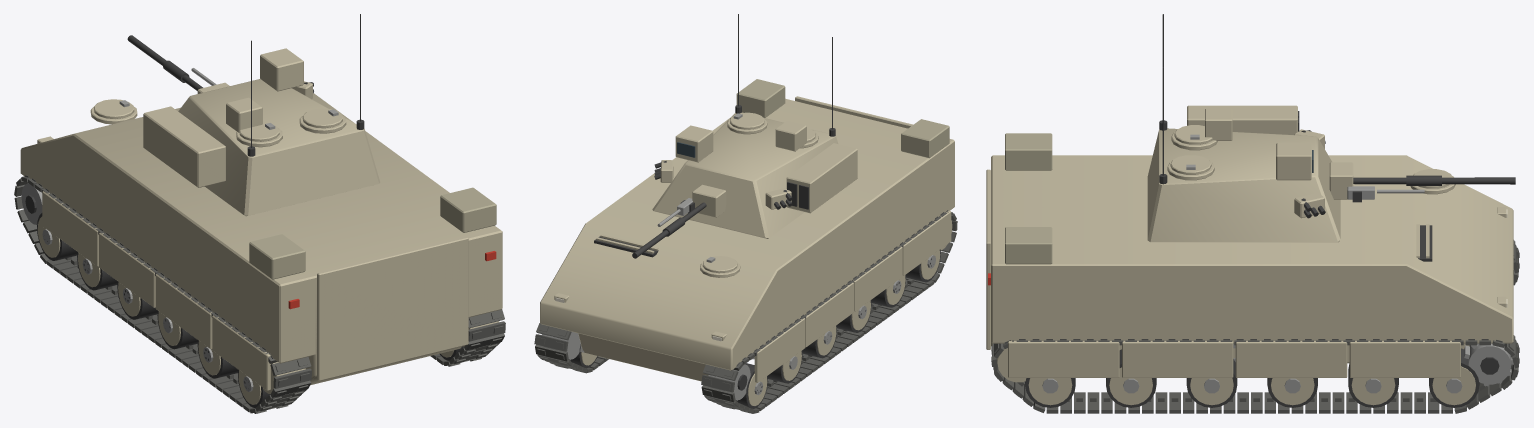
Rendered from usa_ifv_m2a3.glb.
The picture shows the model from 3 angles, left to right: view 1: azimuth 30°, elevation 25°; view 2: azimuth 150°, elevation 25°; view 3: azimuth 270°, elevation 25°; orthographic projection. The views are drawn at different scales.
Parts seen in each view (by area): view 1: body, turret, barrel; view 2: body, turret, barrel; view 3: body, turret, barrel.
Part boxes in pixels (x1,y1,x2,y2): body: (14,93,505,413); turret: (143,14,380,216); barrel: (127,35,229,93); body: (534,79,957,413); turret: (652,14,857,238); barrel: (632,184,726,258); body: (986,133,1519,413); turret: (1147,14,1340,242); barrel: (1329,162,1515,202).
Size of the model in its own units: 3.4 by 4.42 by 6.74.
